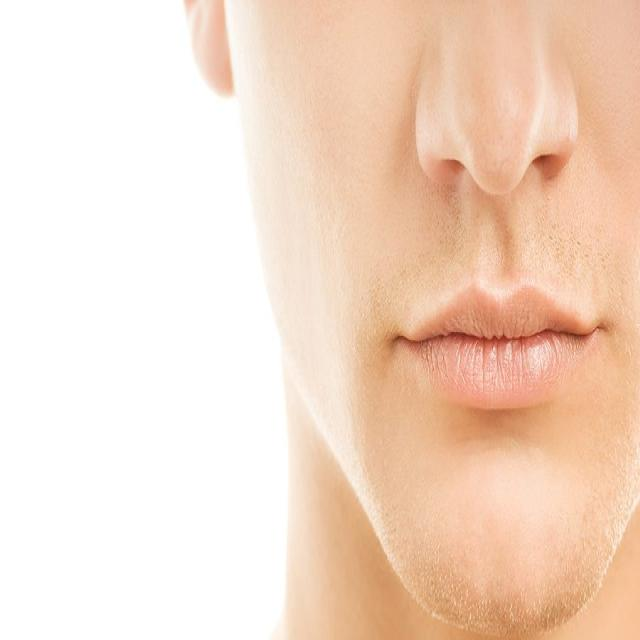piel: (178, 0, 639, 639)
